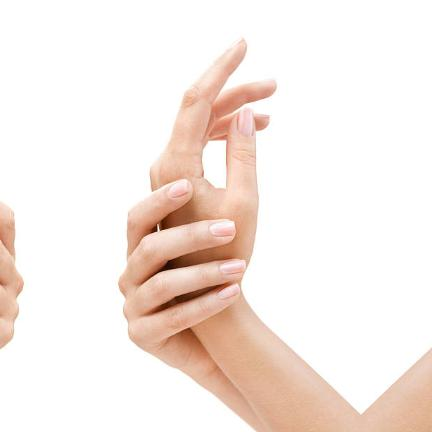Nail: (237, 108, 253, 136), (166, 179, 189, 198), (208, 221, 235, 237), (219, 260, 246, 275), (216, 284, 239, 300)
